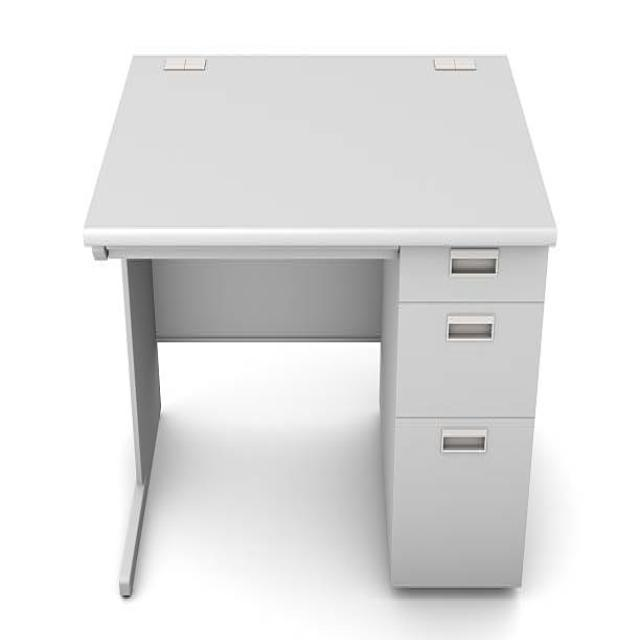table: (82, 50, 558, 597)
